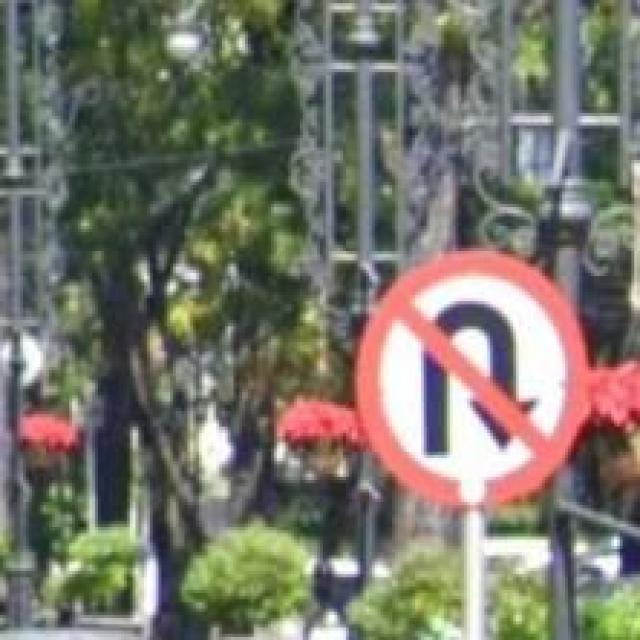traffic sign: (358, 251, 588, 512)
